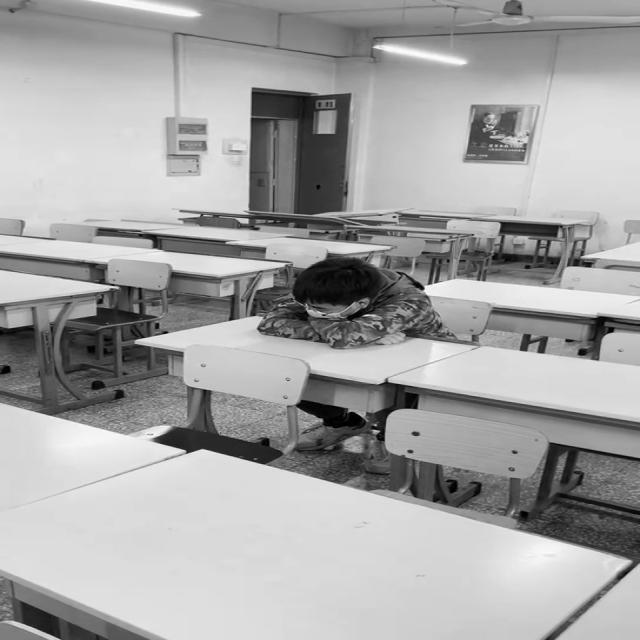sleep: (260, 252, 447, 349)
